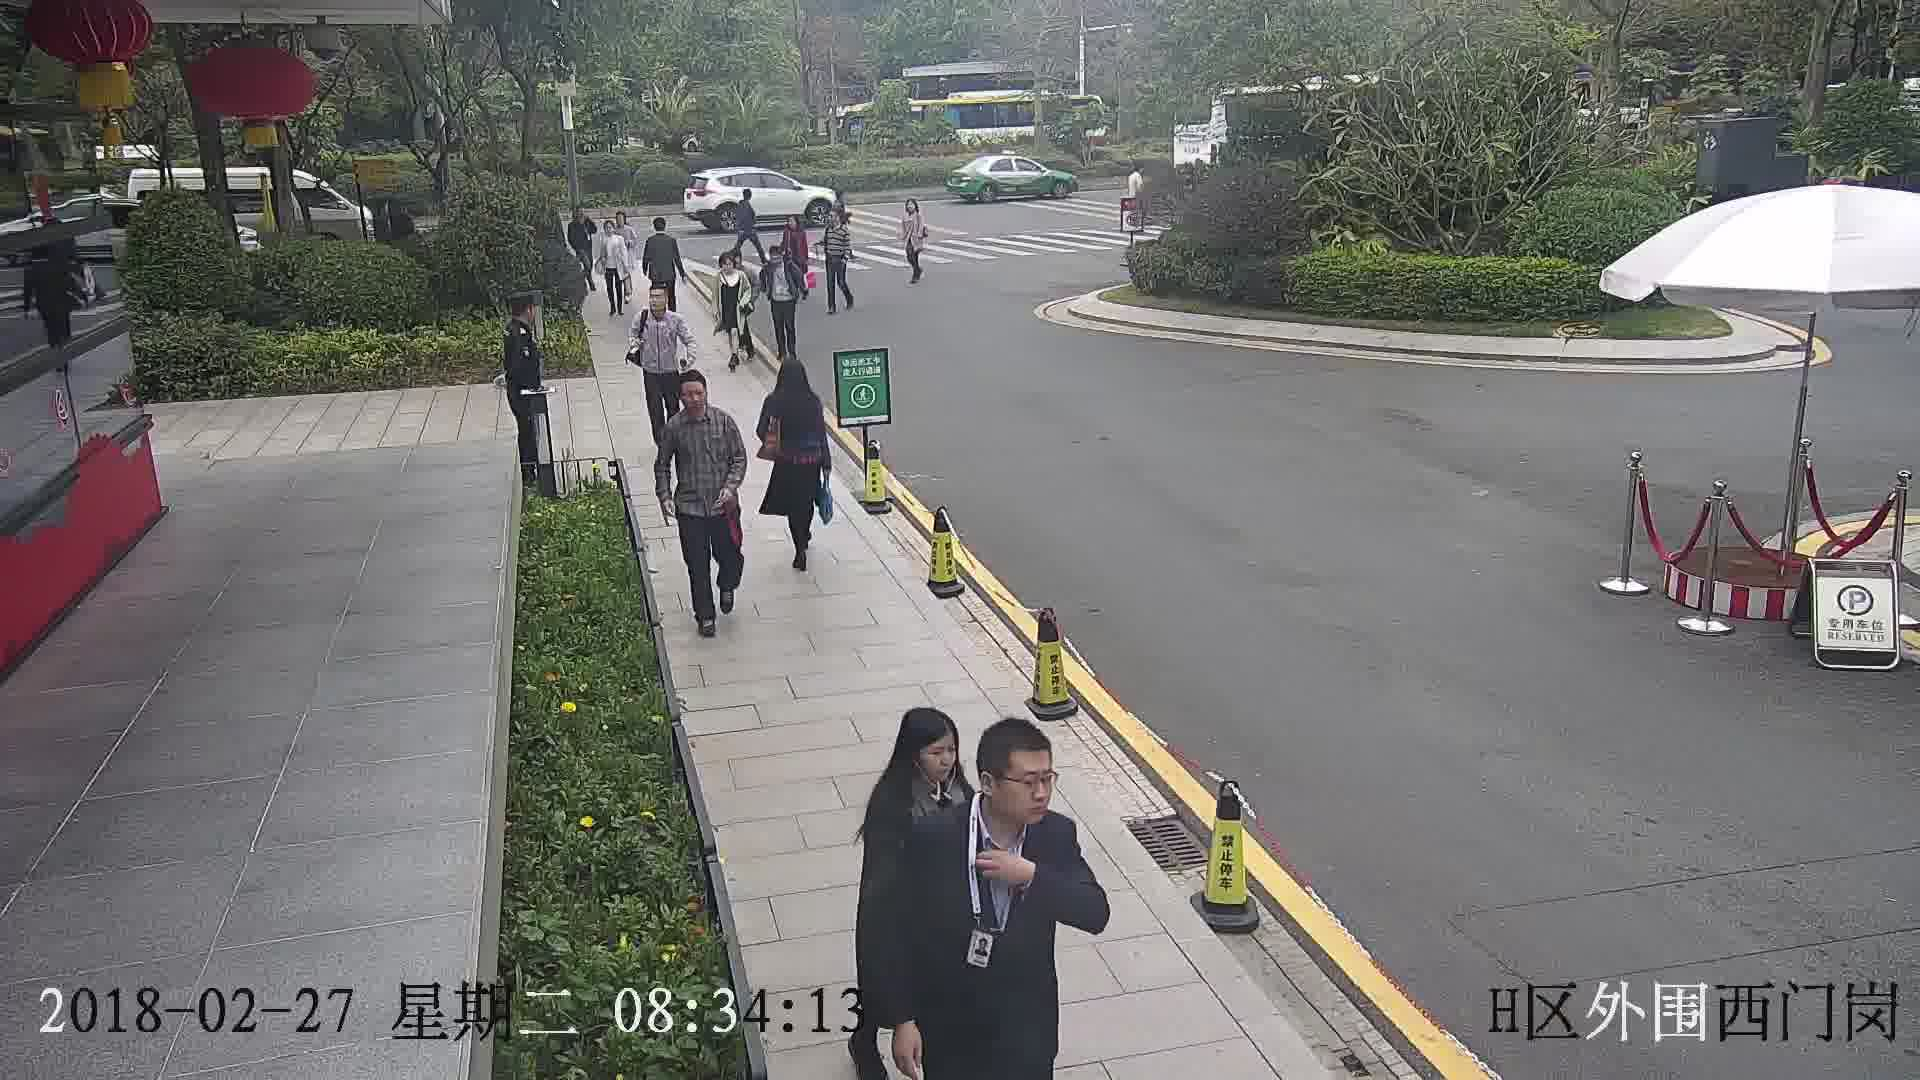face: (985, 749, 1061, 825), (913, 730, 961, 787)
person: (898, 716, 1088, 890), (856, 705, 969, 834), (662, 369, 738, 441), (763, 356, 827, 415), (635, 282, 686, 328), (504, 291, 544, 345), (716, 247, 749, 281), (763, 240, 796, 273), (646, 214, 678, 248), (568, 201, 595, 231), (604, 210, 631, 238), (901, 197, 924, 222), (1122, 163, 1147, 184)
